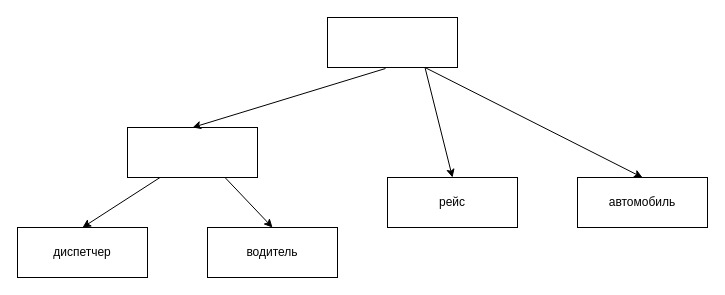
This 725x295 diagram has some shape labels left out. The shapes that lost their labels are listed below. From the top down, each one's box as (x1, y1, x2, y2) in pixels, then its label:
(326, 16, 458, 68): все точки зрения
(126, 126, 258, 178): сотрудники
